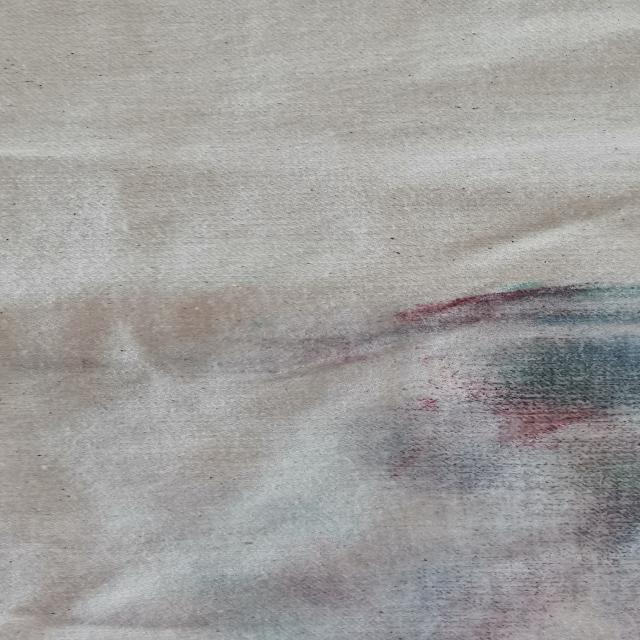taaaches: (297, 273, 640, 640)
